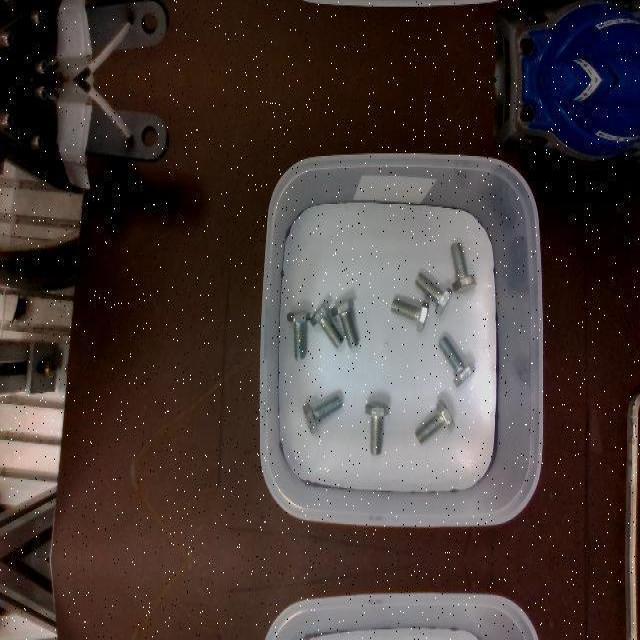screw: (437, 336, 475, 386), (414, 400, 454, 444), (309, 299, 343, 349), (414, 272, 452, 316), (303, 394, 342, 434), (328, 297, 358, 347), (450, 241, 476, 293), (364, 401, 388, 455), (390, 298, 428, 332), (286, 310, 310, 360)
